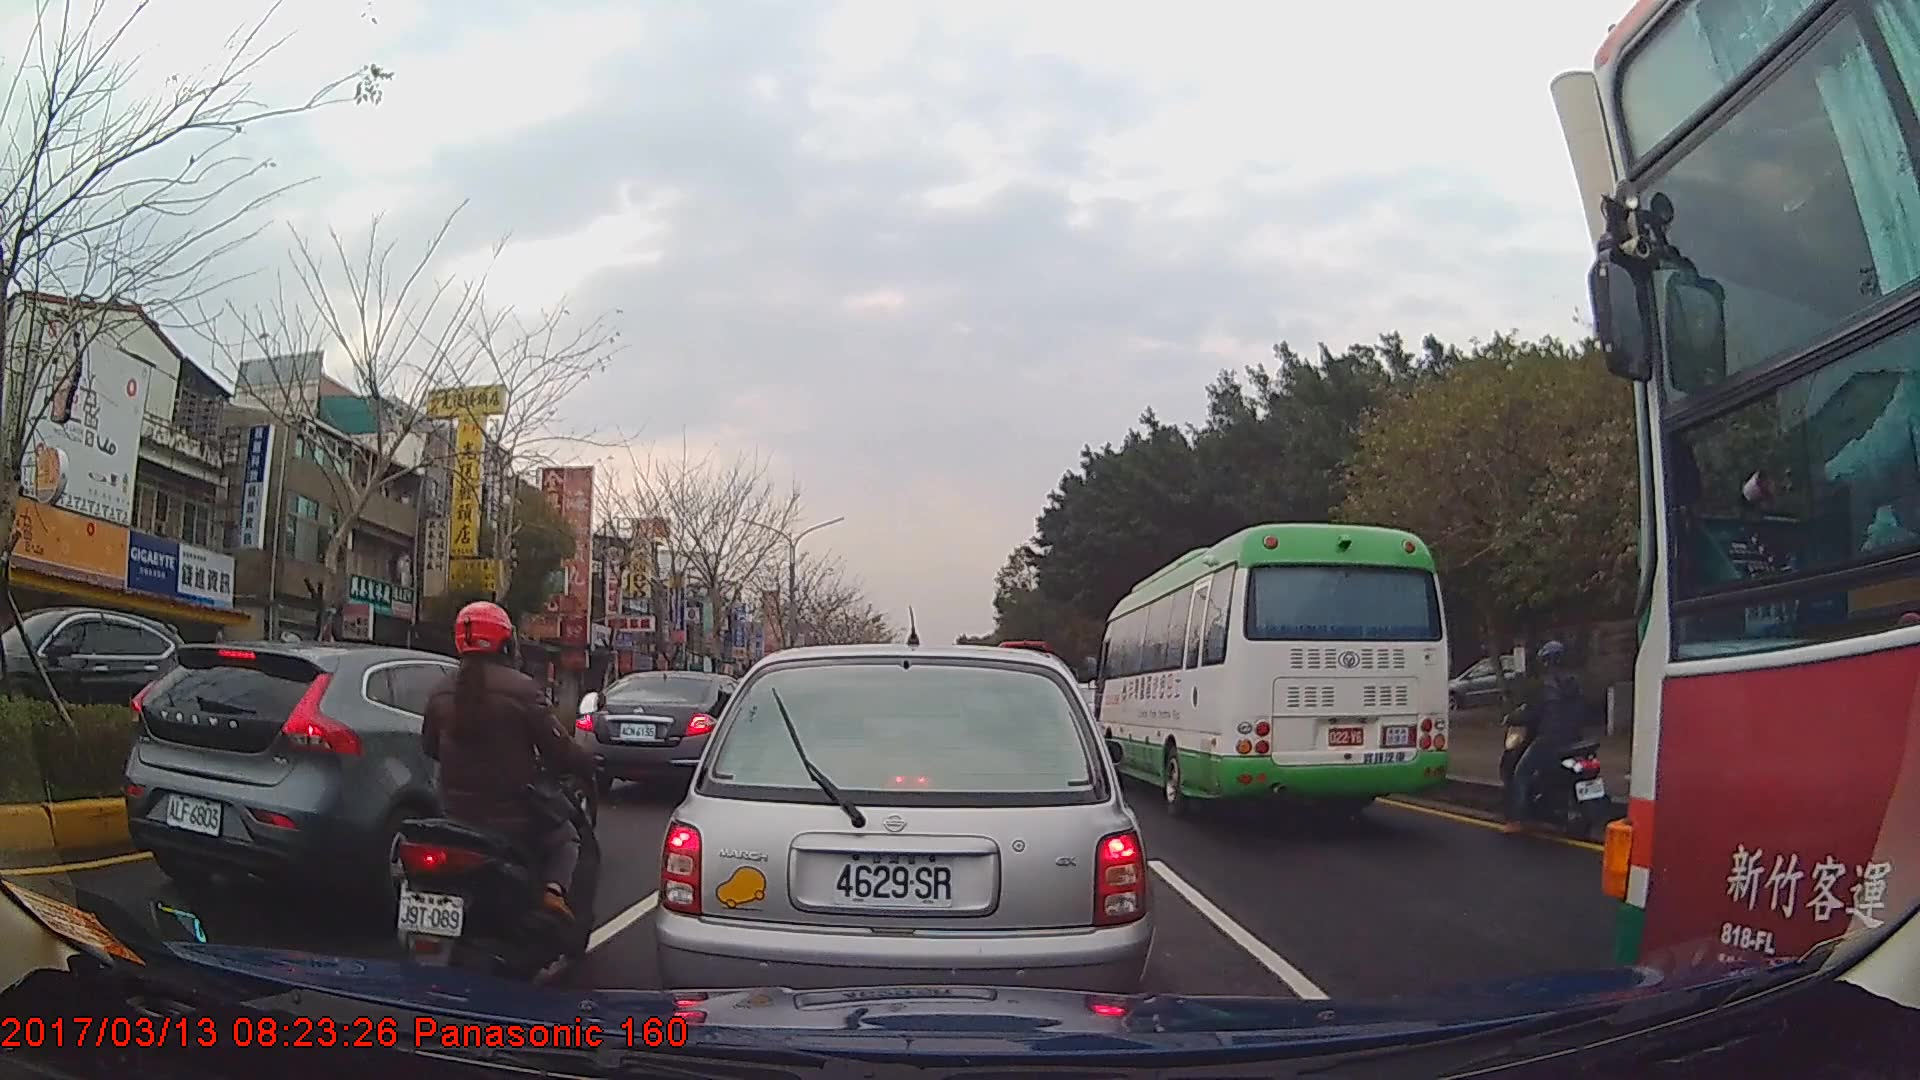rider: (397, 599, 603, 992), (1497, 639, 1606, 839)
vehicle: (1589, 0, 1920, 1055), (653, 639, 1156, 1041), (123, 644, 598, 919), (1095, 521, 1448, 817), (3, 602, 191, 751), (575, 668, 757, 798)
